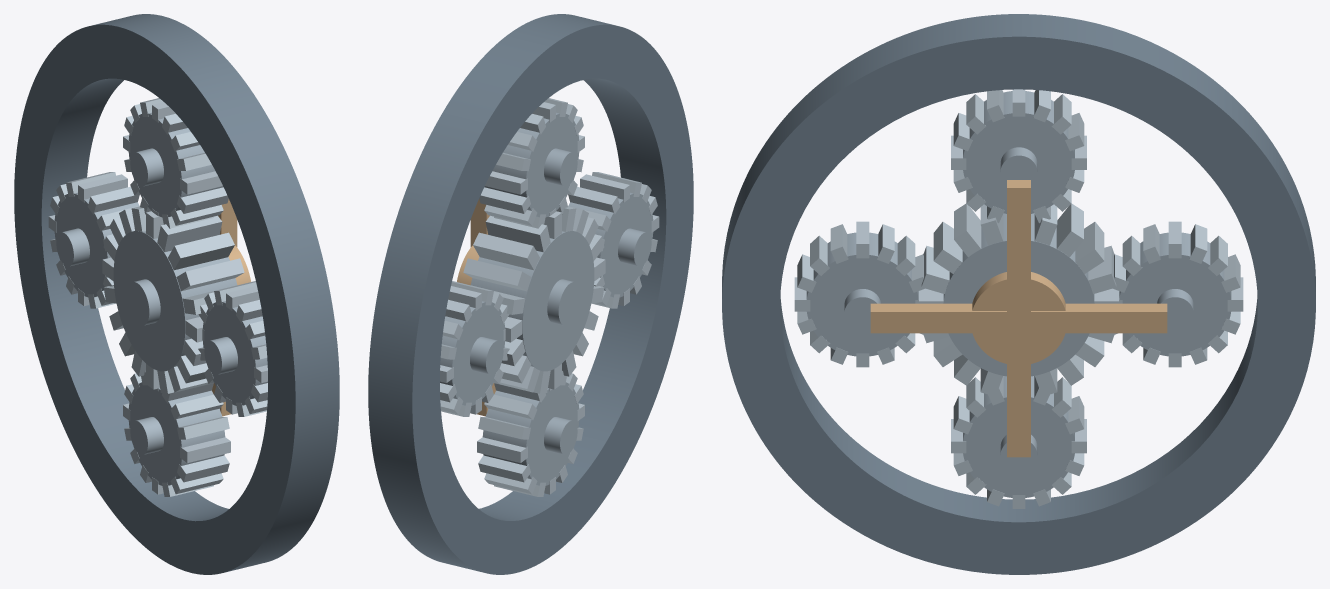
Rendered from planetary-reducer.glb.
3 renders of one model, left to right at view 1: azimuth 30°, elevation 25°; view 2: azimuth 150°, elevation 25°; view 3: azimuth 270°, elevation 25°, orthographic. The views are drawn at different scales.
Parts seen in each view (by area): view 1: planetary-reducer - shell, planetary-reducer - steel, planetary-reducer - blade, planetary-reducer - bronze; view 2: planetary-reducer - shell, planetary-reducer - steel, planetary-reducer - blade, planetary-reducer - bronze; view 3: planetary-reducer - shell, planetary-reducer - steel, planetary-reducer - blade, planetary-reducer - bronze.
Part boxes in pixels (x1,y1,x2,y2): planetary-reducer - shell: (14,14,339,574); planetary-reducer - steel: (54,112,267,485); planetary-reducer - blade: (48,98,267,496); planetary-reducer - bronze: (212,199,251,416); planetary-reducer - shell: (368,14,693,574); planetary-reducer - steel: (440,112,653,485); planetary-reducer - blade: (440,98,659,496); planetary-reducer - bronze: (457,199,495,416); planetary-reducer - shell: (722,14,1315,574); planetary-reducer - steel: (806,91,1231,497); planetary-reducer - blade: (794,89,1243,508); planetary-reducer - bronze: (870,180,1167,457).
Bounding box in the file's own units: 0.265 × 1.38 × 1.38.
